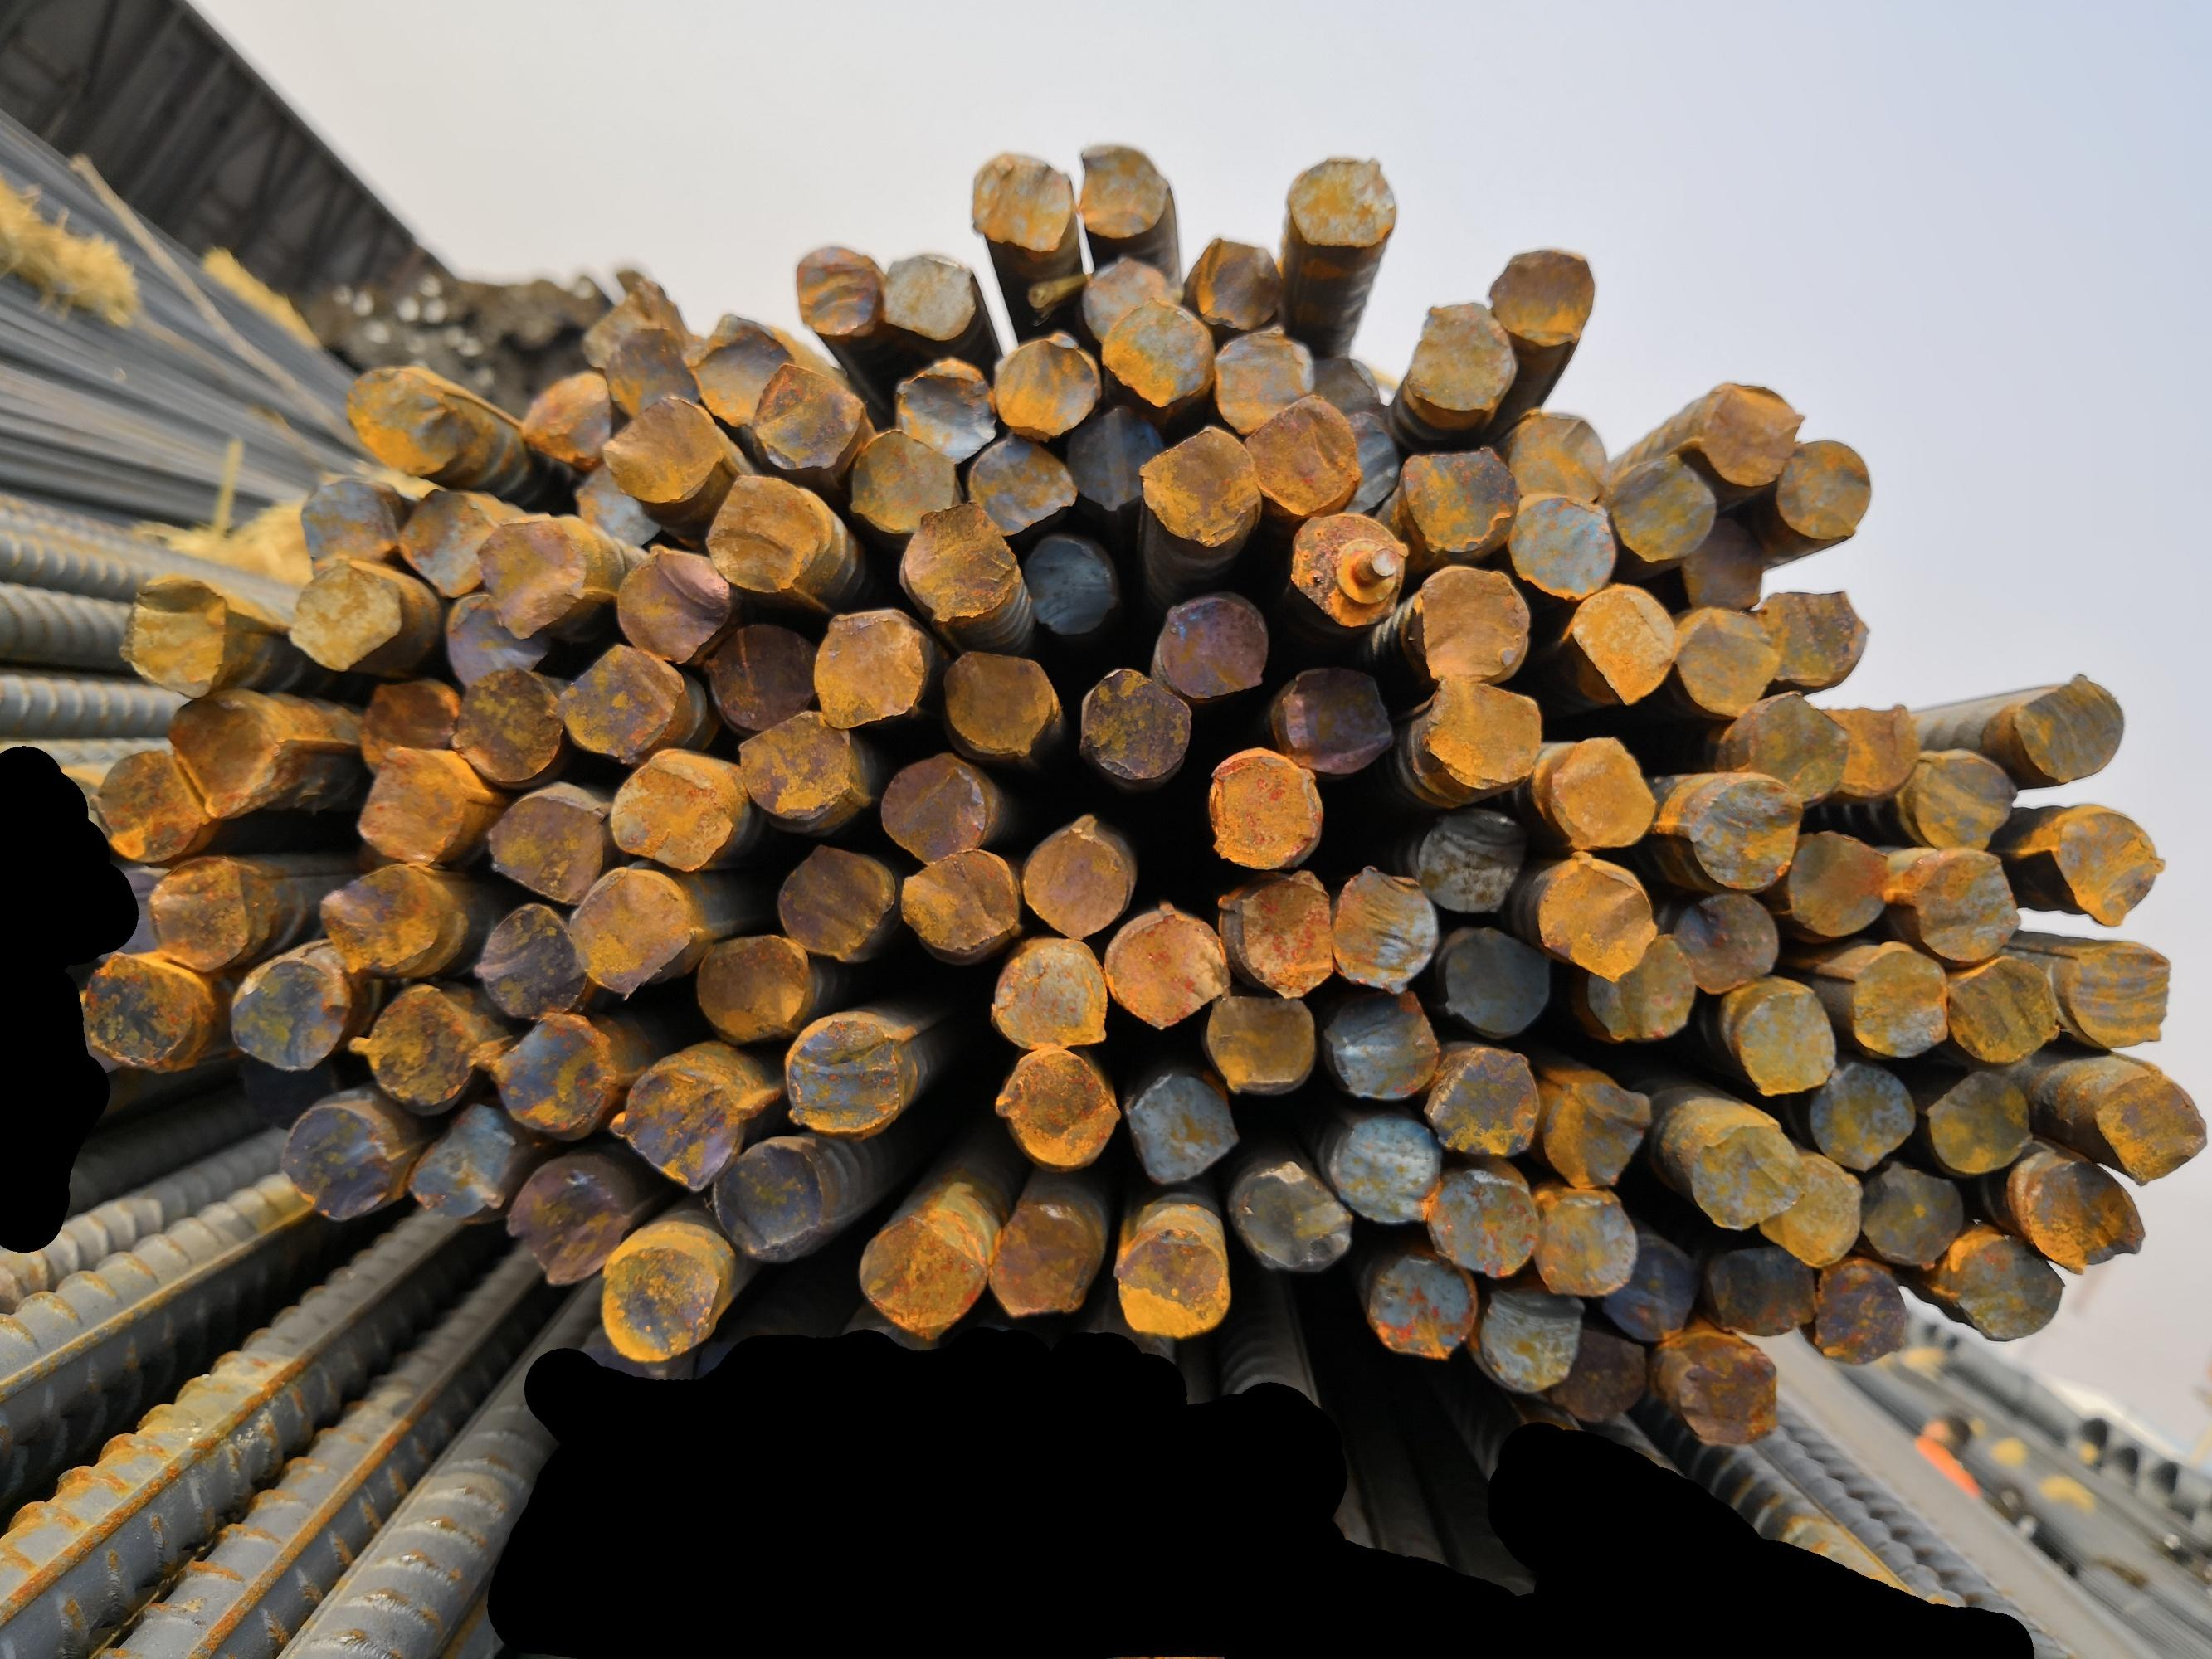bar: (608, 1049, 755, 1190), (497, 1150, 633, 1291), (483, 1009, 626, 1138), (345, 981, 481, 1114), (75, 951, 214, 1080), (856, 1208, 987, 1342), (596, 1227, 723, 1364), (166, 687, 293, 821), (603, 746, 739, 871), (312, 854, 453, 974), (1135, 418, 1264, 549), (1530, 850, 1659, 981), (2039, 796, 2168, 927), (608, 535, 737, 664), (225, 945, 356, 1072), (570, 866, 697, 997), (702, 467, 826, 601), (779, 1009, 908, 1136), (139, 854, 277, 972), (990, 1046, 1121, 1169), (708, 1134, 830, 1267), (1407, 671, 1543, 789), (1890, 847, 2025, 965), (1100, 899, 1227, 1025), (350, 741, 474, 870), (1109, 1215, 1234, 1340), (1229, 1154, 1354, 1279), (2083, 1063, 2209, 1188), (2019, 1155, 2146, 1279), (483, 786, 614, 906), (343, 356, 467, 481), (1236, 394, 1361, 518), (113, 573, 235, 701), (772, 840, 894, 967), (1393, 439, 1520, 561), (1215, 866, 1335, 995), (898, 500, 1018, 629), (279, 1094, 397, 1225), (1203, 741, 1321, 871), (556, 643, 685, 762), (1286, 505, 1408, 629), (472, 897, 591, 1025), (1675, 1114, 1804, 1230), (1567, 573, 1679, 708), (739, 352, 861, 474), (734, 704, 854, 826), (985, 932, 1107, 1053), (87, 749, 211, 868), (2005, 666, 2128, 784), (1361, 1244, 1478, 1370), (985, 1190, 1098, 1319), (1332, 863, 1442, 995), (1272, 657, 1393, 777), (1421, 1157, 1539, 1279), (811, 605, 926, 730), (403, 1100, 514, 1229), (1417, 561, 1532, 685), (1949, 1227, 2064, 1351), (284, 559, 410, 673), (478, 514, 591, 640), (596, 394, 723, 505), (1893, 742, 2020, 854), (1323, 1108, 1442, 1227), (1435, 924, 1555, 1040), (1077, 662, 1191, 786), (1021, 812, 1133, 938), (1684, 774, 1802, 890), (1403, 295, 1517, 416), (685, 305, 795, 430), (1143, 591, 1272, 697), (1473, 1279, 1590, 1396), (444, 666, 563, 781), (842, 425, 960, 540), (1537, 735, 1656, 850), (1686, 375, 1806, 488), (1754, 1141, 1862, 1267), (577, 272, 708, 375), (1323, 986, 1440, 1101), (940, 645, 1058, 758), (1539, 1070, 1651, 1190), (1802, 1058, 1917, 1173), (1424, 1040, 1537, 1157), (1736, 688, 1849, 805), (1123, 1066, 1236, 1182), (1945, 951, 2062, 1063), (899, 845, 1018, 955), (1919, 1063, 2038, 1173), (1100, 293, 1213, 406), (1727, 979, 1839, 1094), (702, 615, 819, 725), (692, 931, 809, 1040), (1529, 1182, 1639, 1298), (879, 751, 992, 863), (1584, 925, 1694, 1040), (293, 469, 404, 580), (1764, 430, 1874, 544), (1841, 943, 1949, 1058), (1666, 890, 1785, 995), (2067, 936, 2172, 1054), (964, 143, 1074, 254), (1415, 805, 1525, 917), (1668, 605, 1778, 716), (1757, 582, 1869, 692), (1780, 826, 1890, 938), (1670, 1335, 1780, 1446), (1279, 148, 1398, 251), (1856, 1159, 1966, 1269), (1508, 486, 1616, 598), (1598, 1223, 1700, 1342), (1206, 992, 1316, 1100), (891, 354, 997, 465), (1483, 242, 1595, 349), (1607, 451, 1713, 563), (1804, 1256, 1910, 1368), (390, 488, 495, 598), (1175, 228, 1285, 333), (1506, 397, 1611, 507), (1700, 1237, 1813, 1338), (352, 674, 462, 777), (992, 333, 1098, 437), (1062, 397, 1161, 509), (1215, 324, 1314, 434), (441, 587, 556, 680), (1815, 697, 1917, 800), (967, 432, 1074, 532), (1020, 535, 1123, 636), (518, 362, 615, 469), (786, 240, 882, 345), (603, 315, 701, 415), (1551, 1323, 1647, 1424), (875, 247, 978, 342), (1072, 138, 1166, 240), (1677, 509, 1768, 615), (1070, 253, 1184, 336), (565, 455, 657, 549), (1335, 403, 1407, 518), (1313, 347, 1389, 415)
